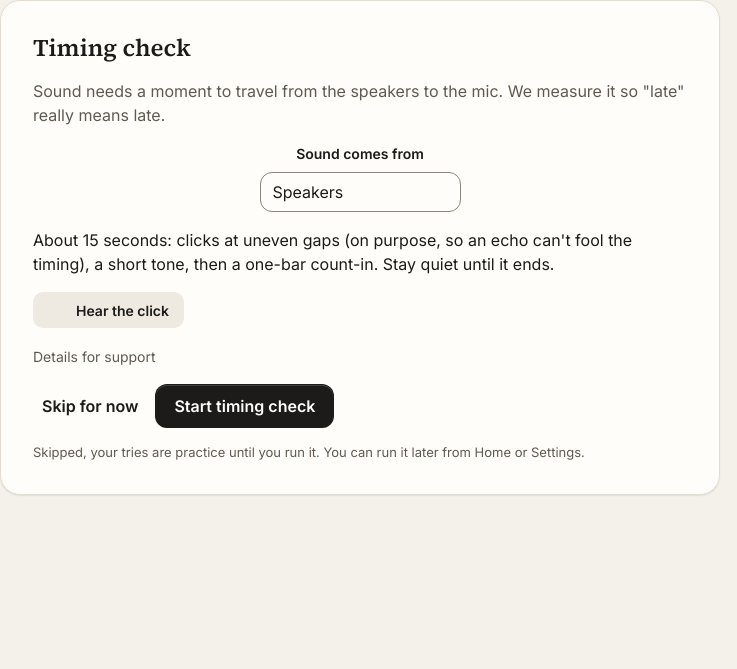
Scenario: CalibrationCard › speakers: Start unlocks in the click, shows the measured delay, asks about audibility, saves and continues
Later steps or results of the test are not shown.
Click the button "Start timing check".
click(245, 406)  # box [155,384,334,428]
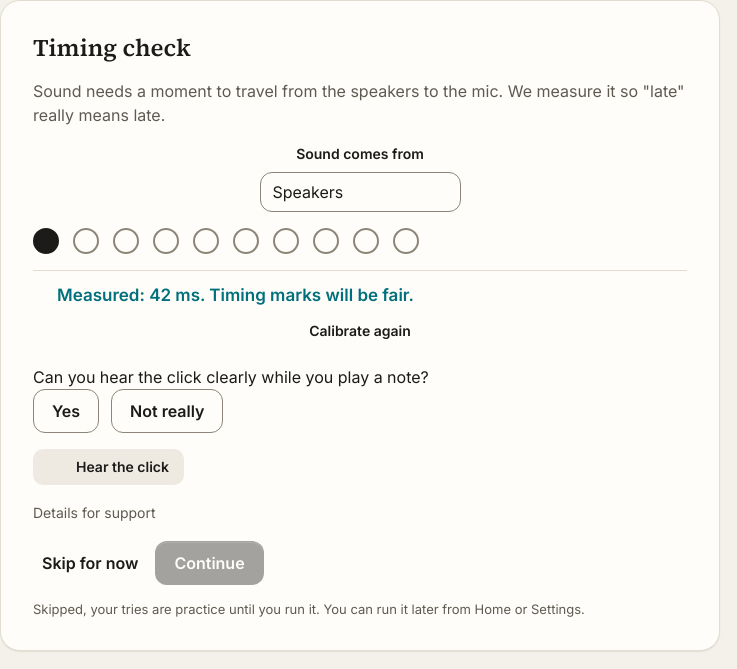
Check: the element with test id "cal-result" shows "Measured: 42 ms. Timing marks will be fair.", box [57,285,414,305]
Check: the text "Can you hear the click clearly while you play a note?" is shown, box [33,366,429,386]
